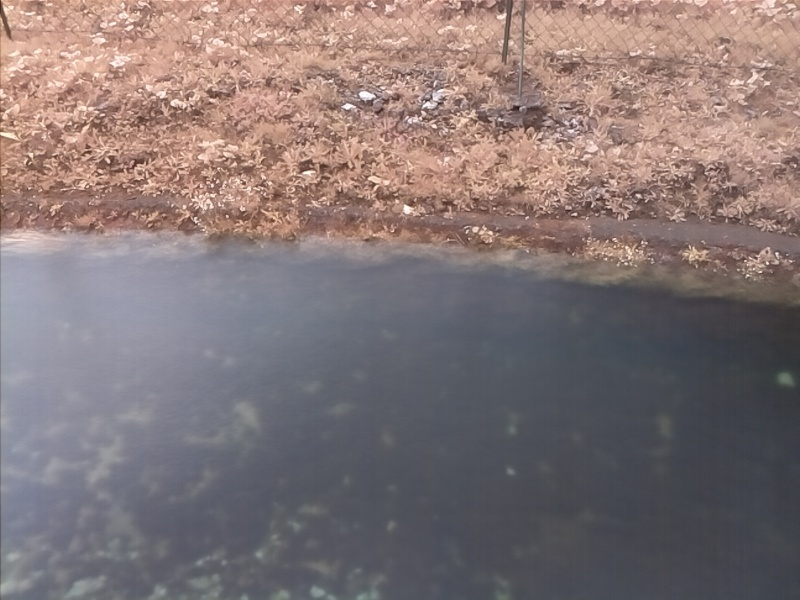Water: (1, 226, 800, 597)
